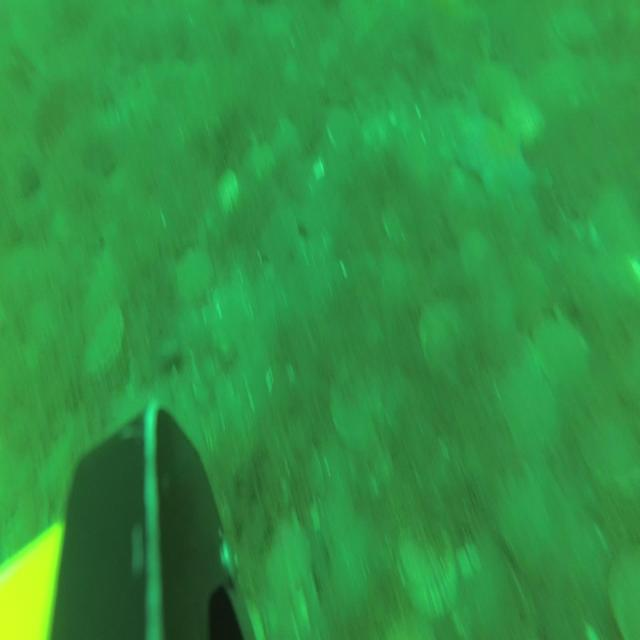scallop: (390, 517, 460, 621), (417, 297, 474, 381), (531, 318, 592, 392), (331, 365, 382, 448), (264, 519, 311, 607), (84, 300, 125, 381), (610, 537, 640, 640), (502, 92, 548, 142), (173, 246, 214, 302), (244, 138, 276, 188), (273, 113, 301, 161), (215, 170, 242, 215)
starfish: (456, 114, 536, 197)
